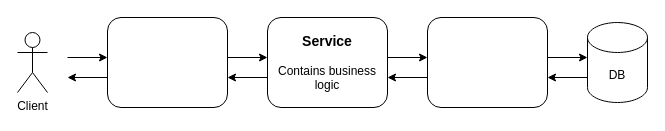
The diagram is 665 pixels wide and 131 high, and some of its shapes have lost their labels. The centre of each missing label's shape, as x and y in pixels:
"Controller REST mapping" belongs at point (167, 62).
"Repository Defines data access methods" belongs at point (487, 62).
